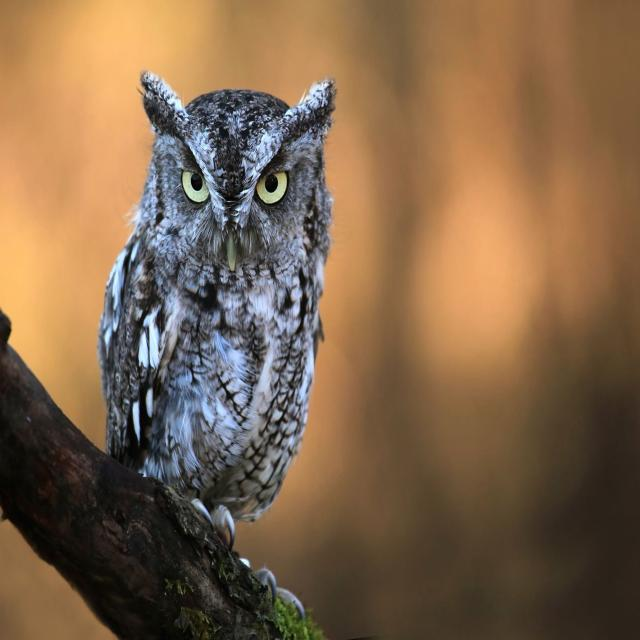owl: (98, 72, 336, 549)
